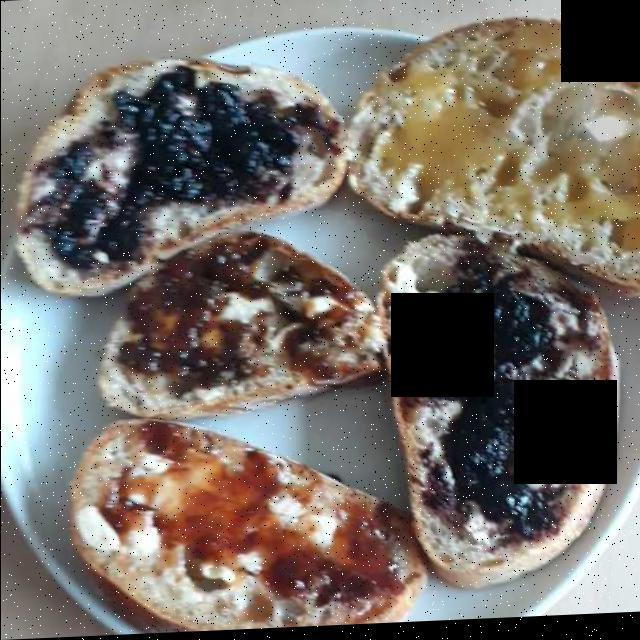bread: (26, 28, 636, 623)
jam: (28, 88, 596, 628)
